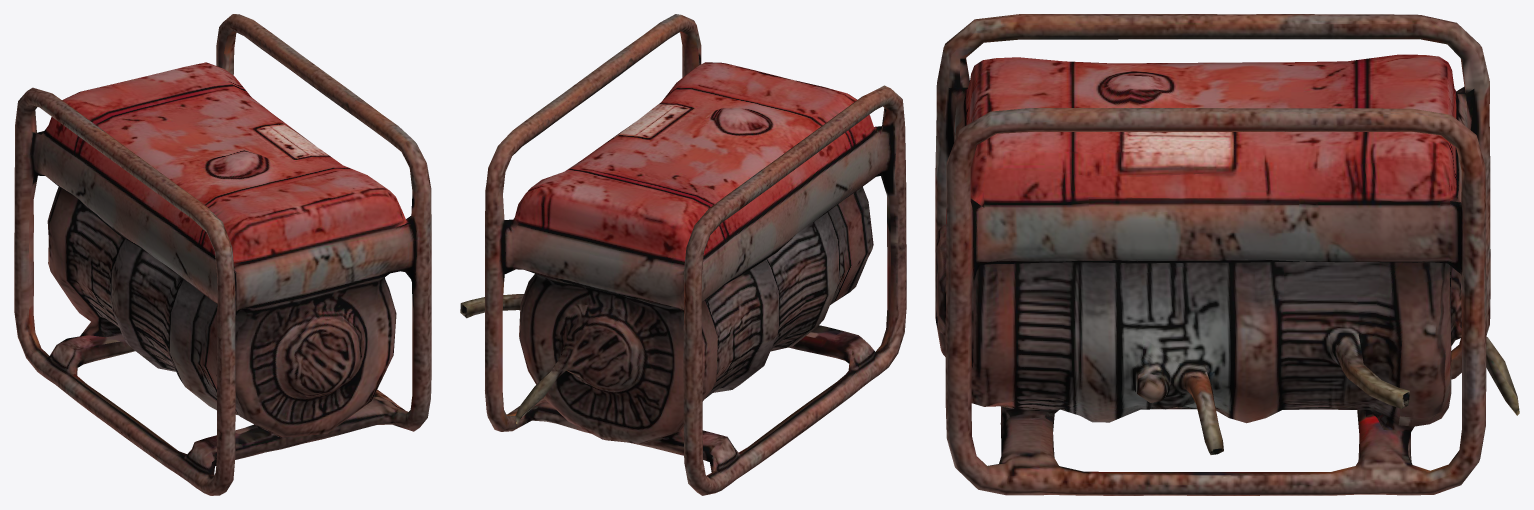
Rendered from portable+generator+3d+model.fbx.
3 renders of one model, left to right at view 1: azimuth 30°, elevation 25°; view 2: azimuth 150°, elevation 25°; view 3: azimuth 270°, elevation 25°, orthographic. The views are drawn at different scales.
Visible parts, largest first — view 1: tripo_node_ebaa6819; view 2: tripo_node_ebaa6819; view 3: tripo_node_ebaa6819.
Boxes of the visible parts, x1,y1,x2,y2 form: tripo_node_ebaa6819: (14, 14, 431, 495); tripo_node_ebaa6819: (460, 14, 906, 495); tripo_node_ebaa6819: (935, 14, 1519, 495).
Size of the model in its own units: 0.6869 by 0.7541 by 0.984.
Materials: 1 (1 with a texture image).
